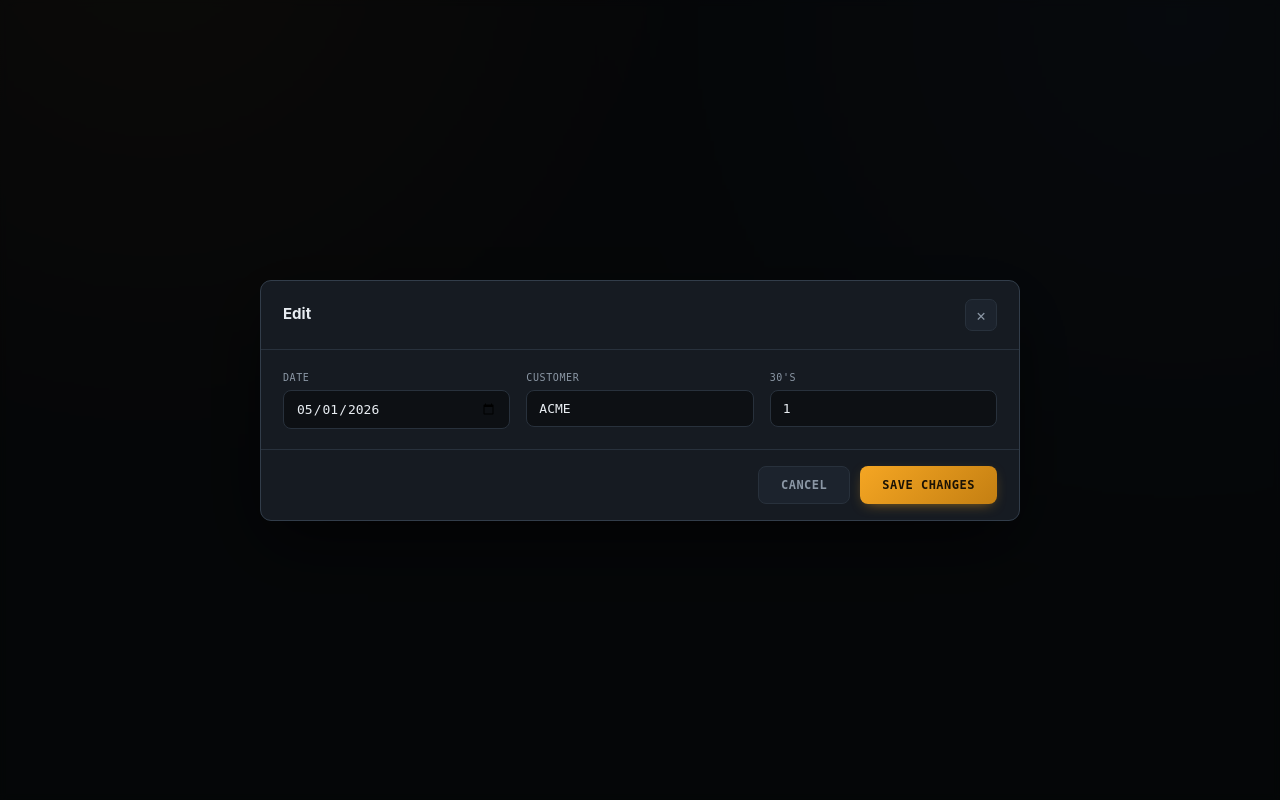
Scenario: RowEditModal › surfaces a save error instead of closing
The image size is (1280, 800).
Click the button "Save Changes" at (929, 484), box [860,466,997,504]
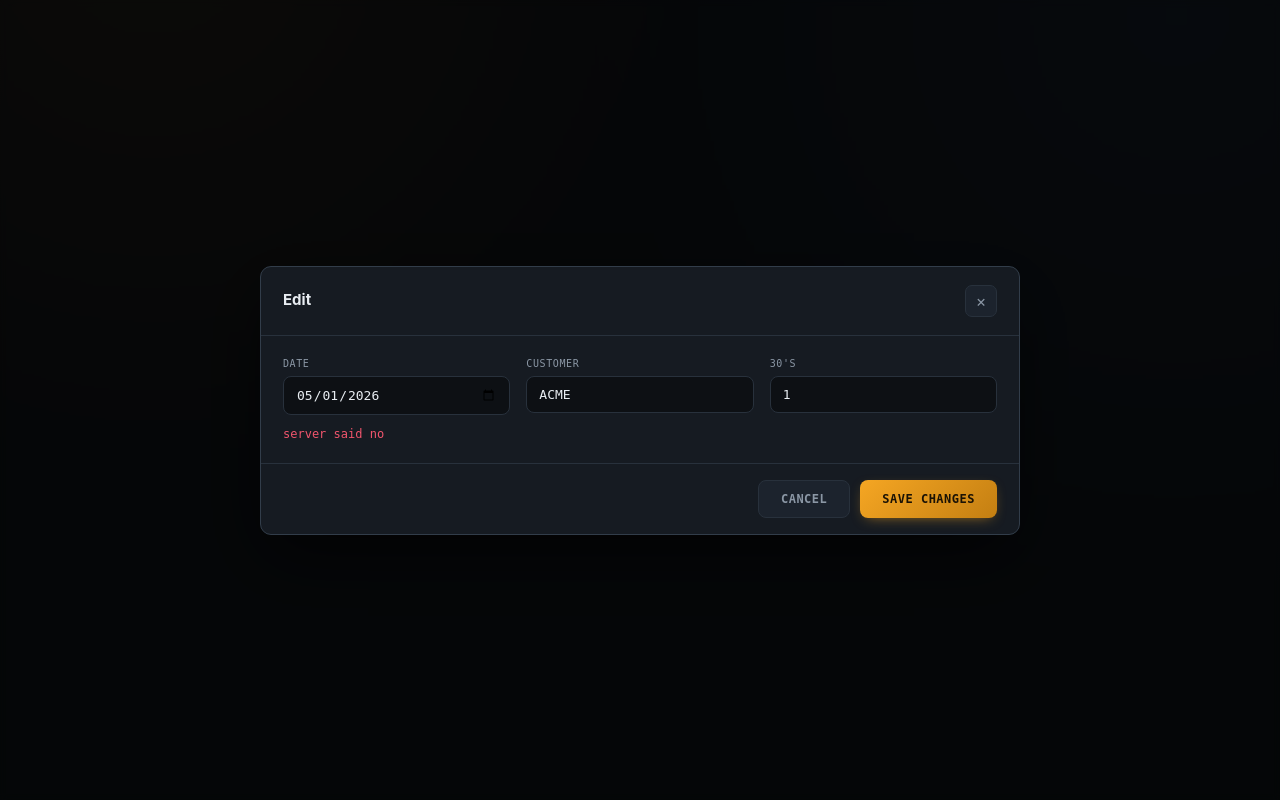
Check: the text "server said no" is shown, box [283,426,384,440]
